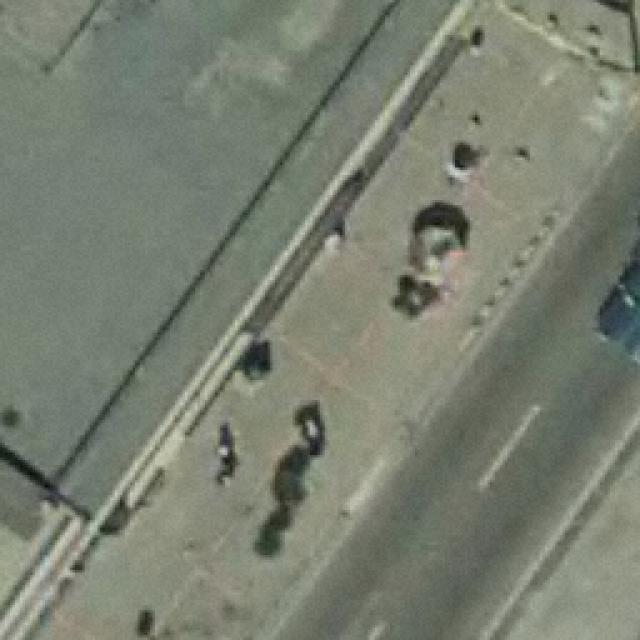vendedor_ambulante: (400, 217, 469, 283)
